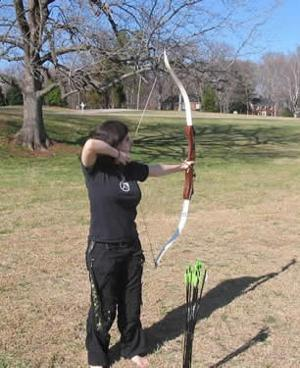person: (81, 120, 196, 367)
